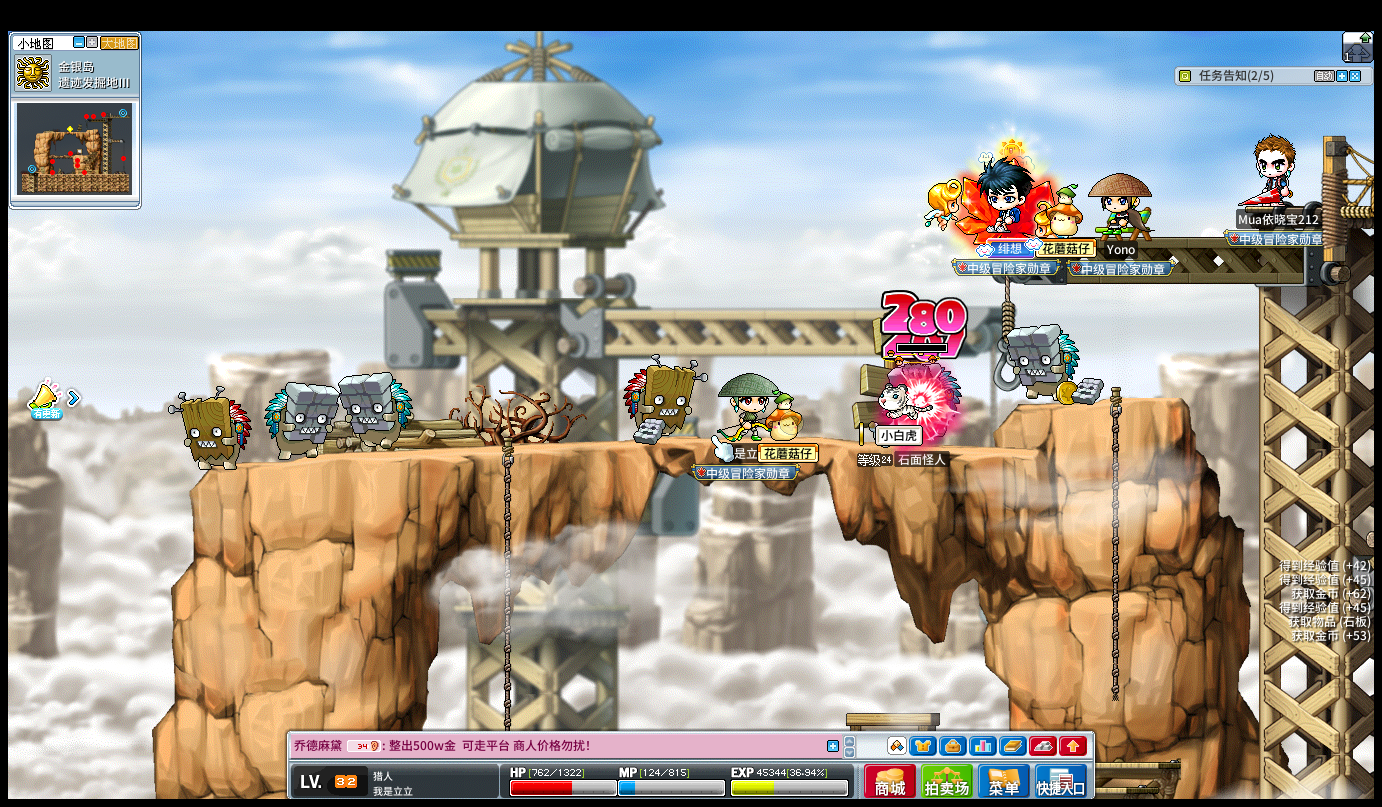floor: (215, 431, 1071, 460), (1014, 392, 1184, 408)
monster: (621, 354, 701, 442), (174, 389, 251, 470), (1004, 322, 1080, 403), (264, 381, 337, 461), (340, 372, 412, 453)
rope: (1107, 385, 1123, 709), (501, 433, 513, 665)
